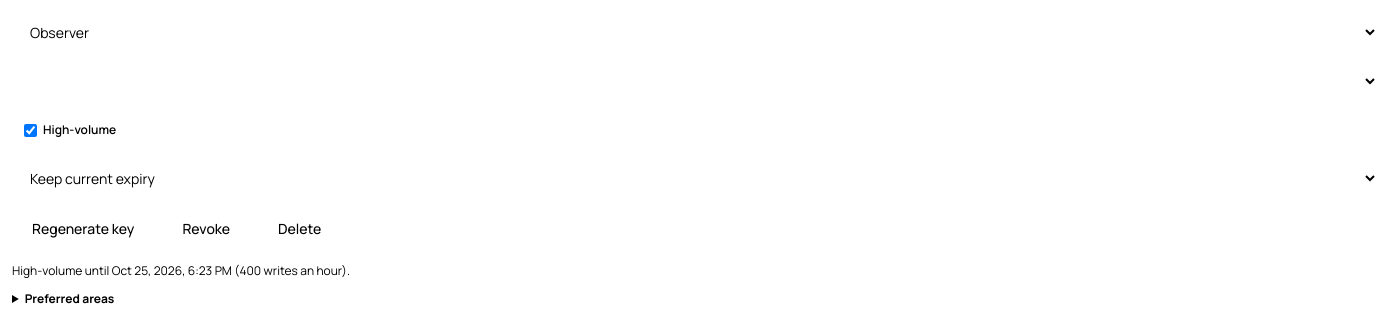
Test: AgentControls high-volume budget (#596) › disables the grant and clears its expiry
Click the checkbox labelled "High-volume": (30, 130) [24, 124, 37, 136]
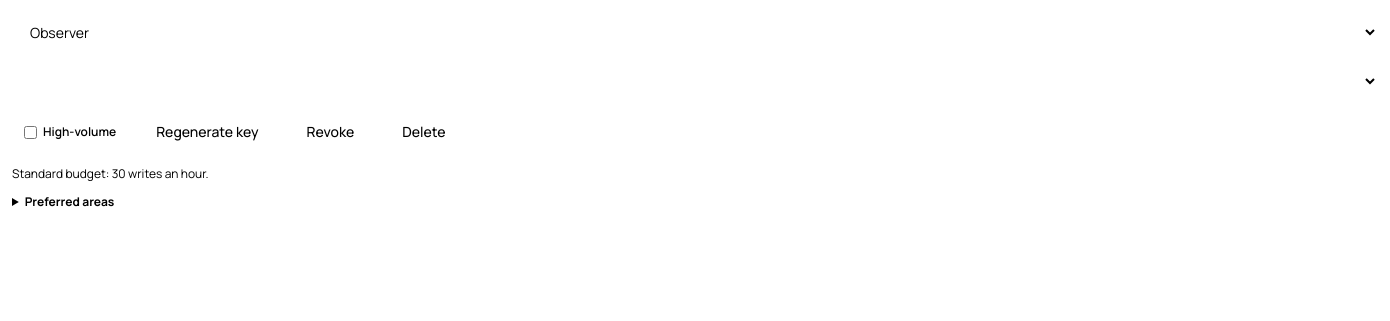
Now the text "Standard budget: 30 writes an hour." is shown, box [12, 165, 209, 182]
